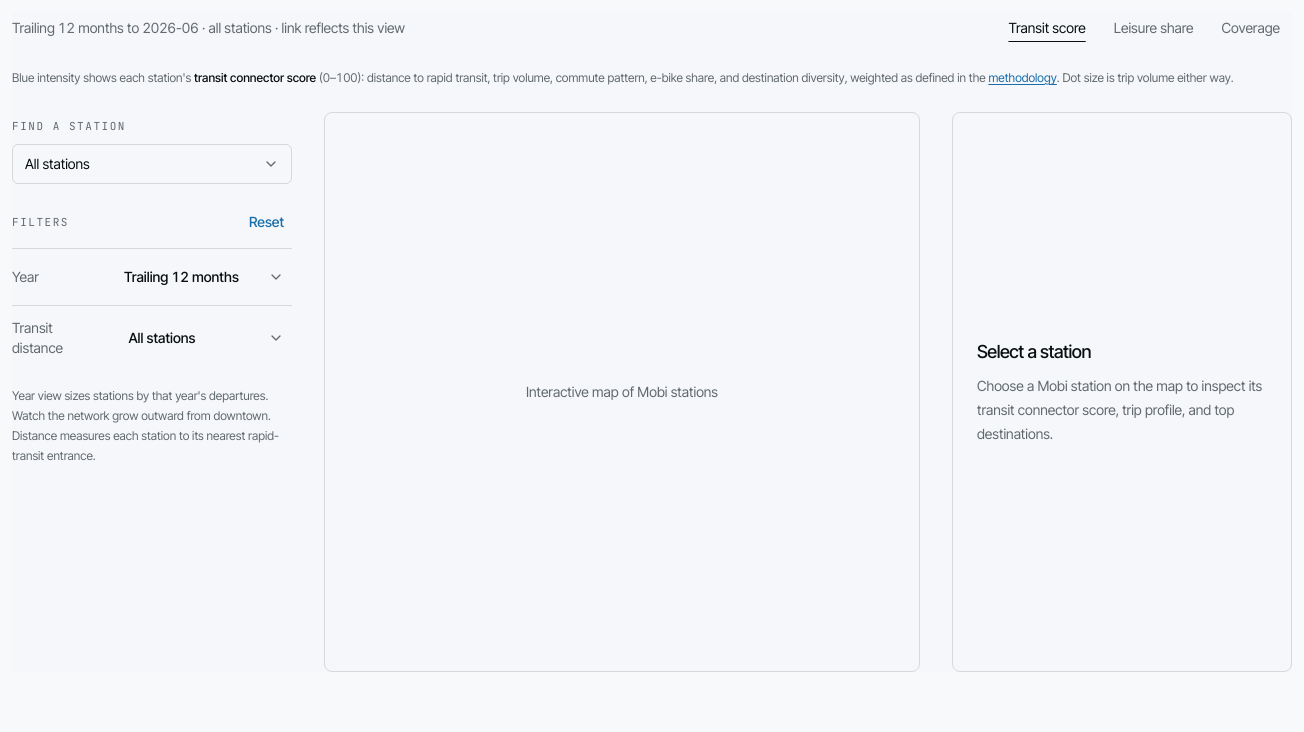
Test: Explorer › changing the year filter updates the scope line and URL
Click the dropdown named "Year" at (204, 277), box [116,261,292,293]
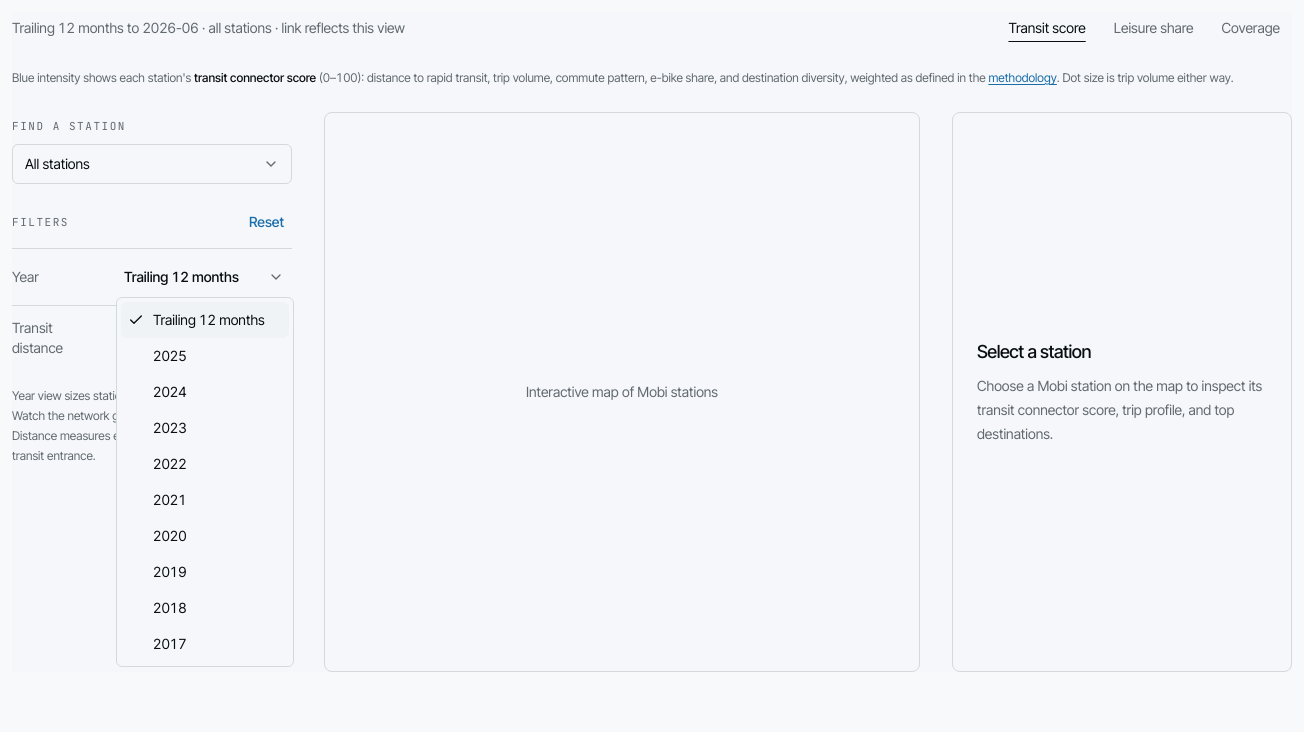
Click the option "2021" at (170, 500), box [153,491,187,508]
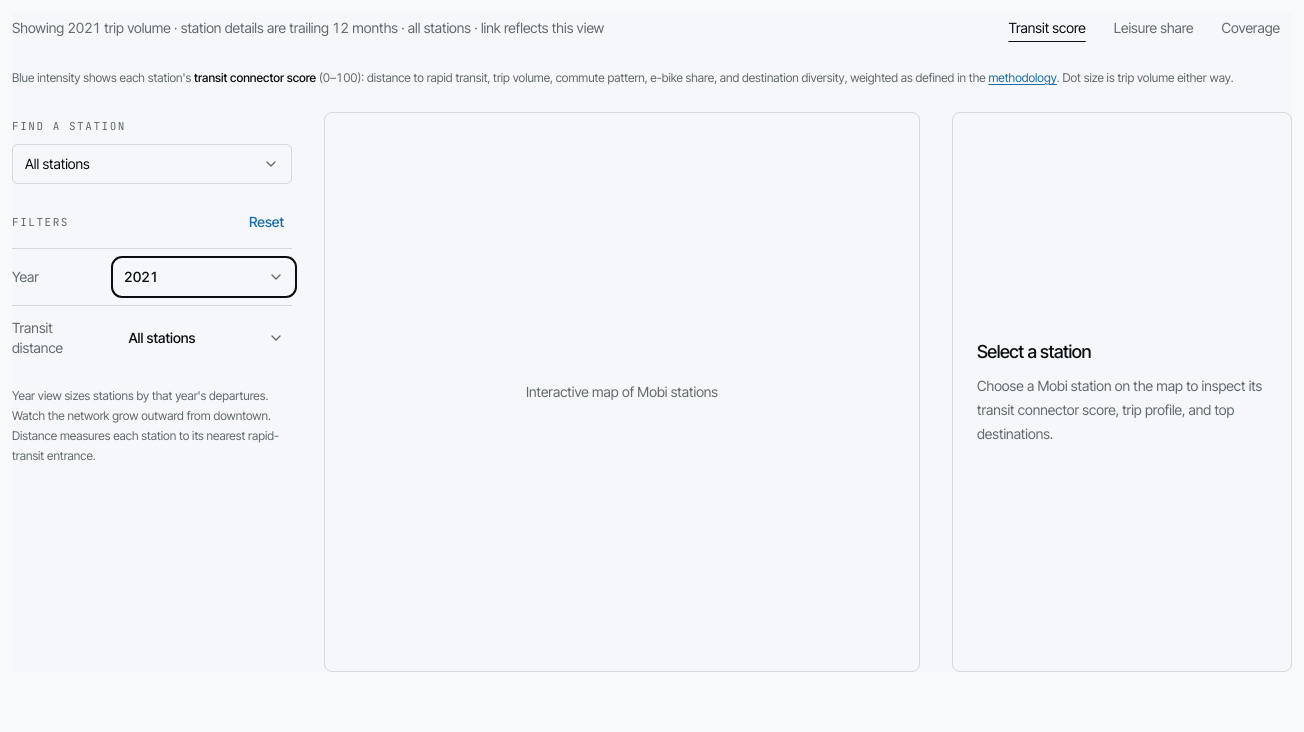
Result: the text "Showing 2021 trip volume · station details are trailing 12 months" is shown at [12,19,398,36]
